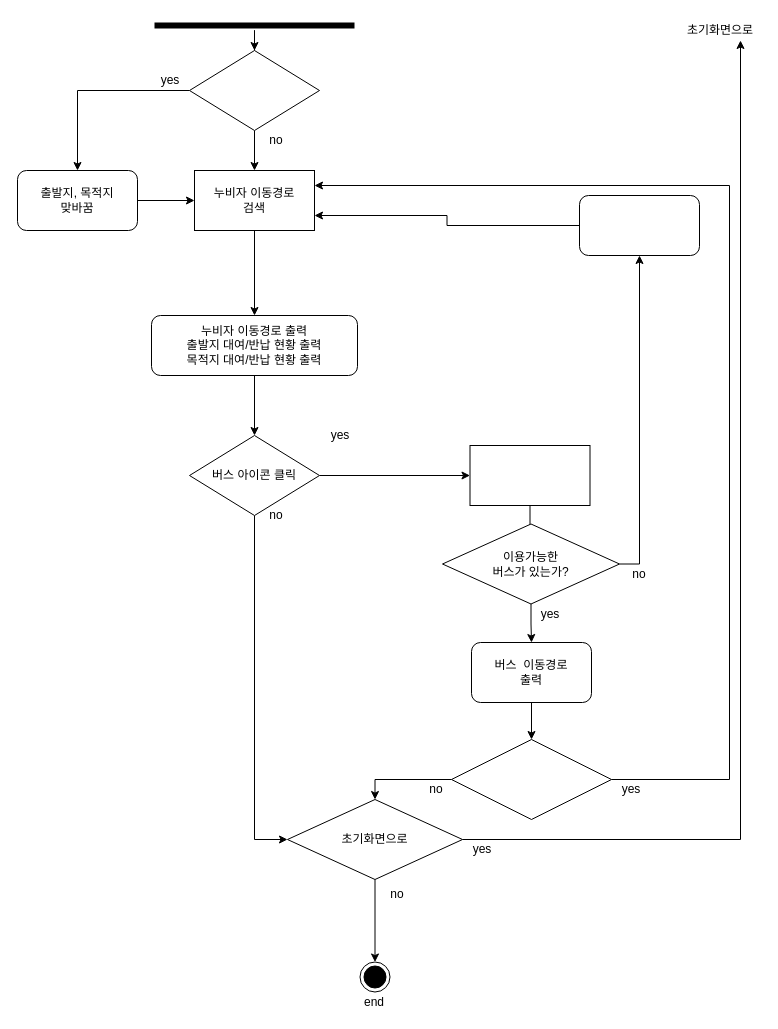
The diagram is 778 pixels wide and 1029 high, and some of its shapes have lost their labels. The shapes that lost their labels are listed below. From the top down, each one's centre as x and y in pixels, then its label:
the point at 254,90: 출발지 목적지 맞바꿈?
the point at 639,225: 이용 가능 버스 없음 출력
the point at 529,475: 버스 이동경로 검색
the point at 531,779: 누비자 아이콘 클릭
